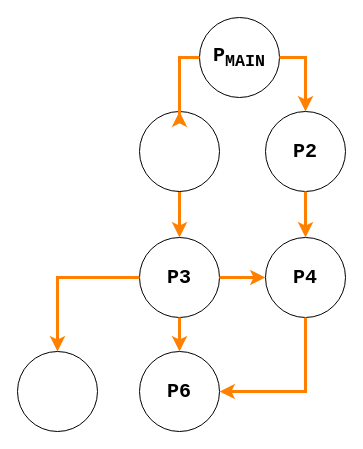
Some shapes in this 363 by 449 pixel diagram are drawn without their labels. Each missing label, with the centre of its shape:
"P1" belongs at point 179,151.
"P5" belongs at point 57,391.
